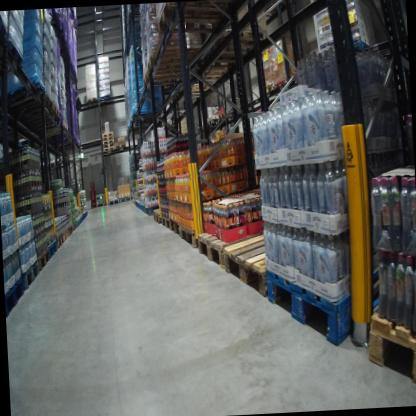pallet: (265, 251, 398, 350), (223, 211, 343, 304), (197, 212, 286, 273), (363, 304, 416, 393), (155, 0, 239, 38), (206, 27, 273, 57), (145, 42, 194, 77), (0, 91, 55, 119), (12, 103, 60, 127), (140, 67, 190, 90), (0, 36, 25, 79), (4, 277, 26, 320), (176, 221, 203, 250), (19, 258, 41, 292), (198, 61, 234, 81), (177, 78, 212, 98), (39, 118, 69, 137), (34, 246, 50, 272), (144, 201, 164, 220), (352, 41, 379, 55), (275, 77, 292, 96), (0, 11, 9, 43), (46, 234, 58, 257), (169, 218, 182, 239), (158, 209, 171, 230), (150, 205, 162, 224), (262, 81, 275, 97), (204, 116, 221, 128), (53, 234, 64, 252), (216, 111, 230, 123), (86, 95, 98, 107), (118, 195, 134, 203), (98, 93, 109, 104), (62, 227, 69, 244), (66, 223, 73, 238), (115, 143, 128, 151), (102, 147, 115, 154), (101, 130, 114, 137), (107, 198, 119, 205), (101, 143, 114, 149), (102, 140, 115, 146), (101, 136, 113, 142), (75, 219, 80, 229), (71, 221, 77, 229)
